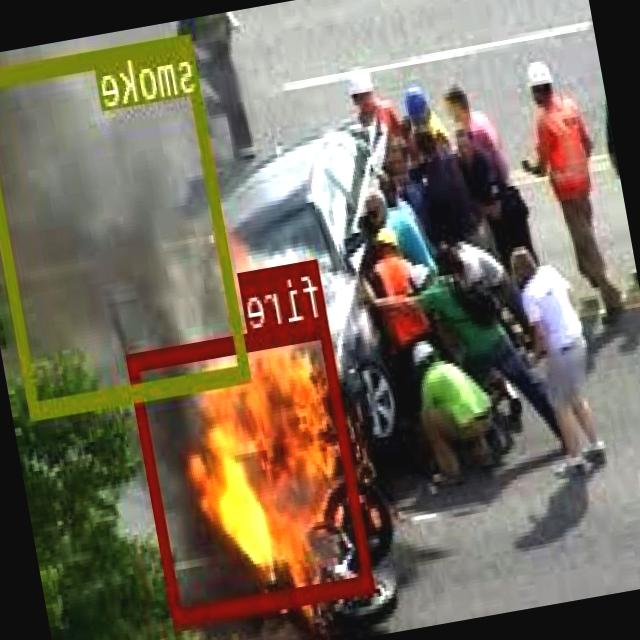fire: (126, 315, 376, 624)
smoke: (0, 30, 251, 416)
